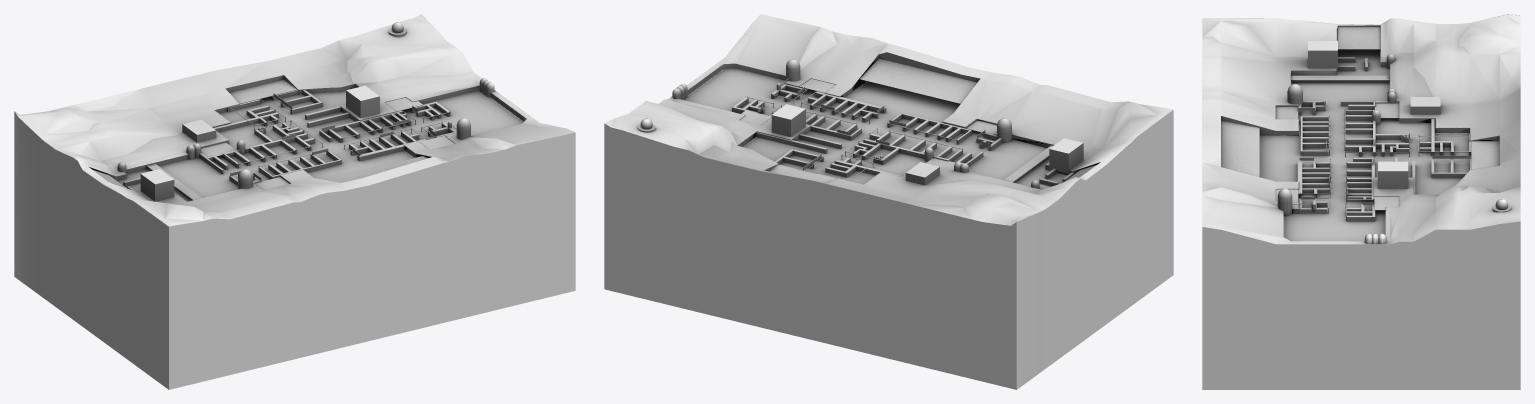
The model's file is WEMDetail.fbx.
3 views of the same model, side by side, from view 1: azimuth 30°, elevation 25°; view 2: azimuth 150°, elevation 25°; view 3: azimuth 270°, elevation 25° (orthographic). The views are drawn at different scales.
Parts seen in each view (by area): view 1: polySurface39, polySurface42, polySurface41, pCube16, pCube13, pCube21, pCube23, pCube14; view 2: polySurface39, polySurface42, pCube23, polySurface41, pCube16, pCube13, pCube14, pCube21; view 3: polySurface42, polySurface39, pCube23, polySurface41, pCube17, pCube13, pCube16, pCube21, pCube15, pCube14, pCylinder35, pCube18 (+3 smaller).
Boxes of the visible parts, x1,y1,x2,y2 form: polySurface39: [14, 111, 575, 389]; polySurface42: [15, 14, 574, 226]; polySurface41: [89, 75, 526, 183]; pCube16: [140, 169, 174, 201]; pCube13: [346, 85, 379, 117]; pCube21: [229, 79, 297, 103]; pCube23: [325, 156, 428, 182]; pCube14: [182, 119, 216, 142]; polySurface39: [604, 110, 1173, 389]; polySurface42: [605, 14, 1173, 225]; pCube23: [859, 58, 977, 103]; polySurface41: [687, 52, 1100, 174]; pCube16: [1049, 138, 1083, 173]; pCube13: [771, 104, 805, 136]; pCube14: [905, 162, 939, 185]; pCube21: [769, 164, 835, 183]; polySurface42: [1202, 14, 1520, 244]; polySurface39: [1202, 221, 1520, 389]; pCube23: [1221, 120, 1259, 176]; polySurface41: [1221, 25, 1499, 213]; pCube17: [1337, 27, 1380, 51]; pCube13: [1378, 161, 1408, 188]; pCube16: [1308, 41, 1337, 71]; pCube21: [1471, 141, 1499, 169]; pCube15: [1291, 75, 1389, 81]; pCube14: [1410, 97, 1440, 114]; pCylinder35: [1277, 188, 1292, 216]; pCube18: [1374, 103, 1399, 118].
Size of the model in its own units: 1530 by 605 by 1000.
172 materials, 171 textured.
